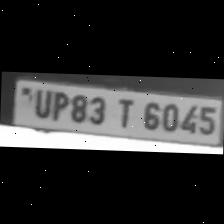0: (159, 99, 179, 130)
3: (84, 92, 108, 125)
4: (178, 100, 198, 134)
5: (194, 101, 218, 135)
6: (137, 97, 161, 130)
8: (66, 90, 88, 124)
P: (48, 88, 68, 120)
T: (111, 94, 137, 128)
U: (28, 84, 53, 118)
